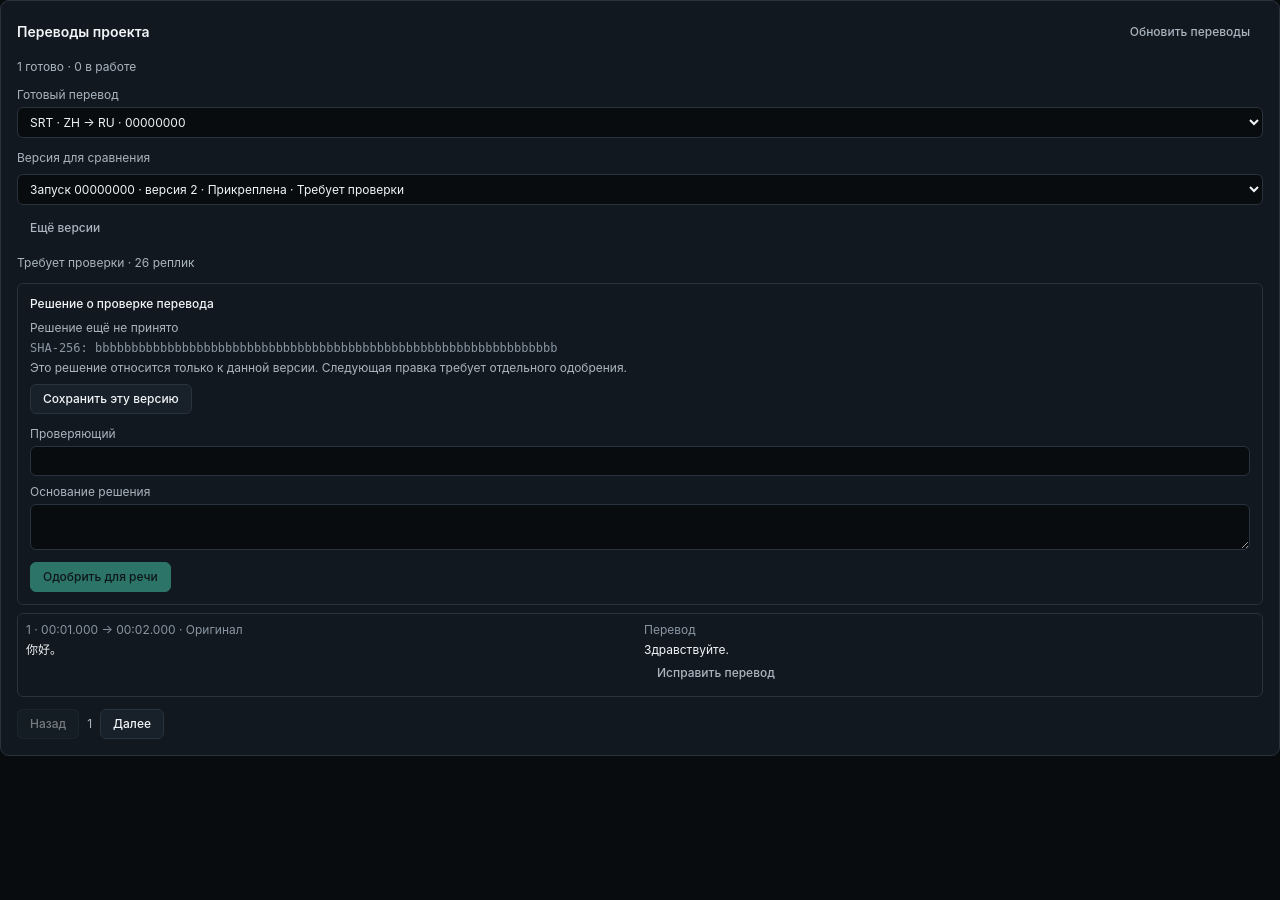
Test case: TranslationReview › loads more history using the cursor without selecting or discarding earlier entries
Expected: the text "Здравствуйте." is shown, [644,642,729,657]
What coordinates should you click on to do the following:
click the button "Ещё версии"
I would click on:
 (65, 228)
Its box is [17,213,113,243].
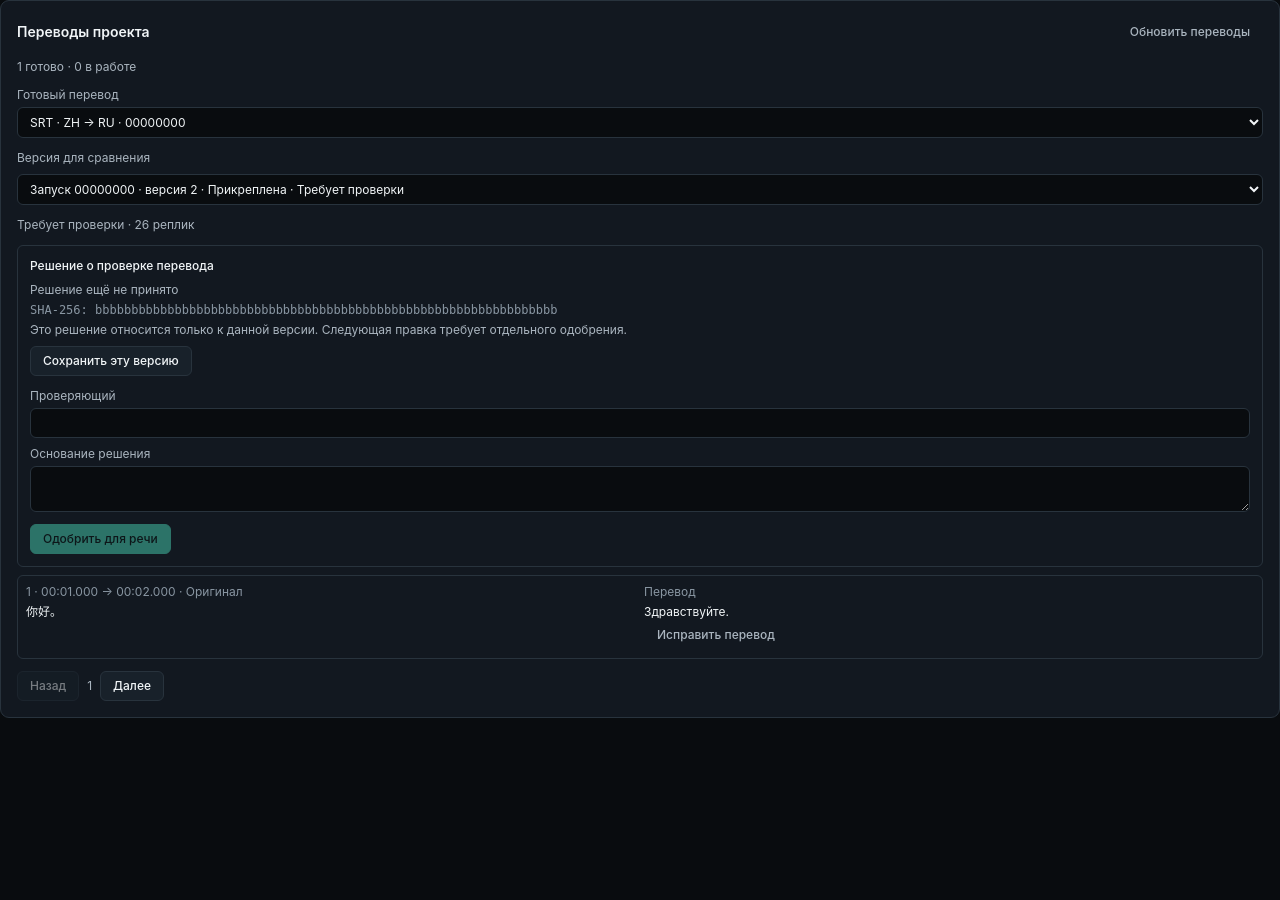
Expected: the button "Ещё версии" is gone
